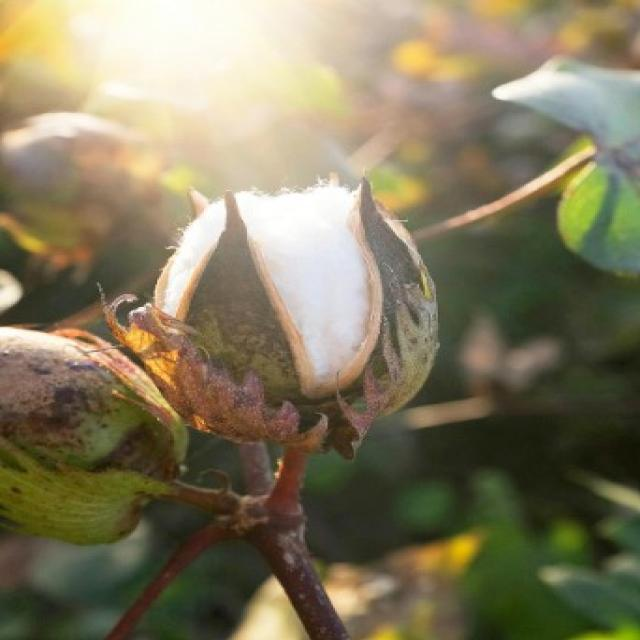Early Boll: (0, 323, 198, 542)
Split Cotton Boll: (153, 182, 449, 448)
